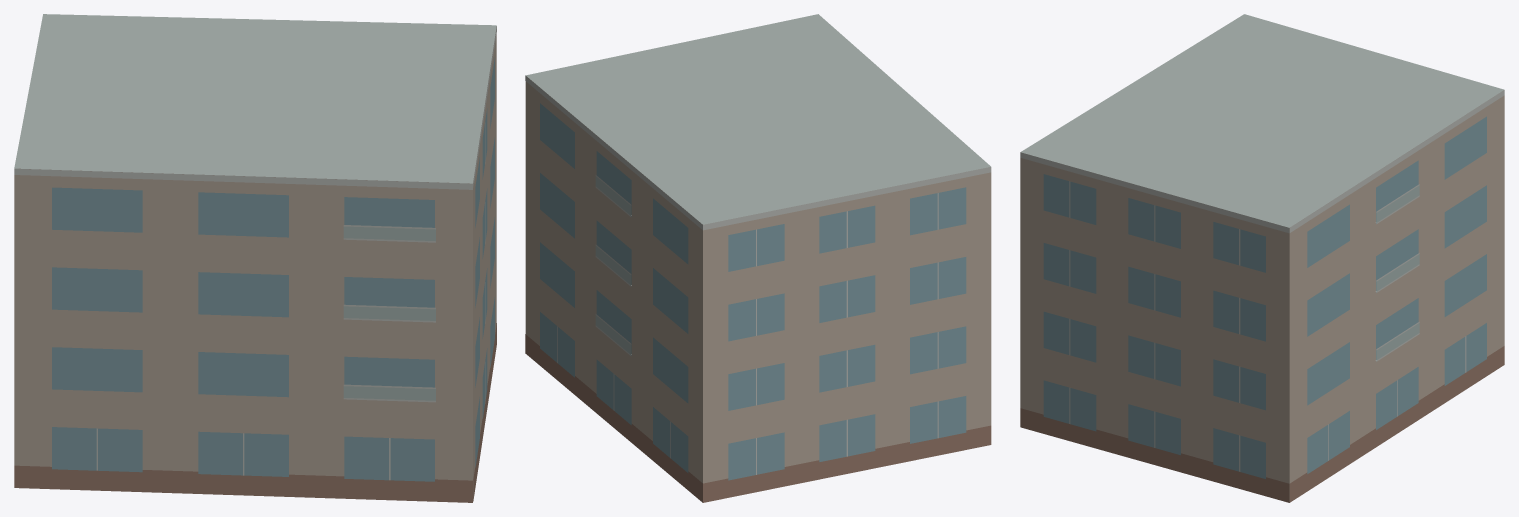
File: survey-upis-32741667.glb
3 views of the same model, side by side, from view 1: azimuth 30°, elevation 25°; view 2: azimuth 150°, elevation 25°; view 3: azimuth 270°, elevation 25° (orthographic). The views are drawn at different scales.
Visible parts, largest first — view 1: survey-upis-32741667.tmp; view 2: survey-upis-32741667.tmp; view 3: survey-upis-32741667.tmp.
Part boxes in pixels (x1,y1,x2,y2): survey-upis-32741667.tmp: (14, 14, 496, 502); survey-upis-32741667.tmp: (525, 14, 991, 502); survey-upis-32741667.tmp: (1020, 14, 1504, 502).
Size of the model in its own units: 20.35 by 12.2 by 19.48.
